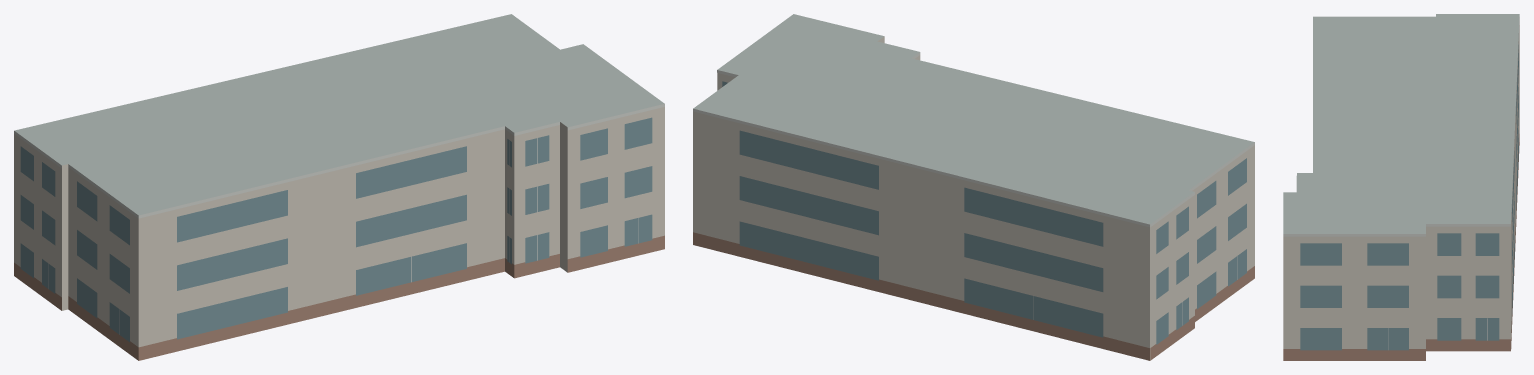
Rendered from survey-upis-32478213.glb.
The picture shows the model from 3 angles, left to right: view 1: azimuth 30°, elevation 25°; view 2: azimuth 150°, elevation 25°; view 3: azimuth 270°, elevation 25°; orthographic projection. The views are drawn at different scales.
Parts seen in each view (by area): view 1: survey-upis-32478213.tmp; view 2: survey-upis-32478213.tmp; view 3: survey-upis-32478213.tmp.
Boxes of the visible parts, box(x1,y1,x2,y2) form: survey-upis-32478213.tmp: box(14, 14, 664, 360); survey-upis-32478213.tmp: box(693, 14, 1254, 360); survey-upis-32478213.tmp: box(1283, 14, 1519, 360).
Size of the model in its own units: 42.68 by 11.5 by 19.38.
